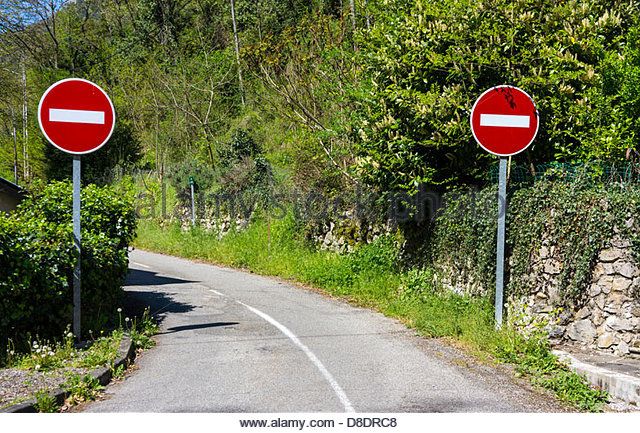No_entry: (37, 78, 117, 155), (469, 84, 541, 156)
